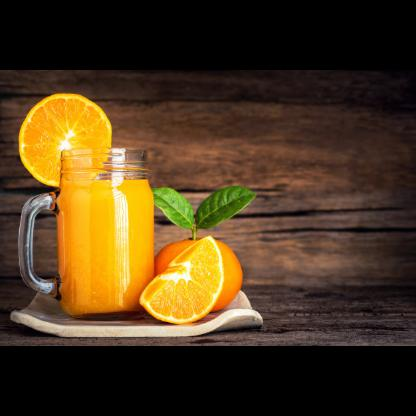orange juice: (56, 177, 154, 317)
